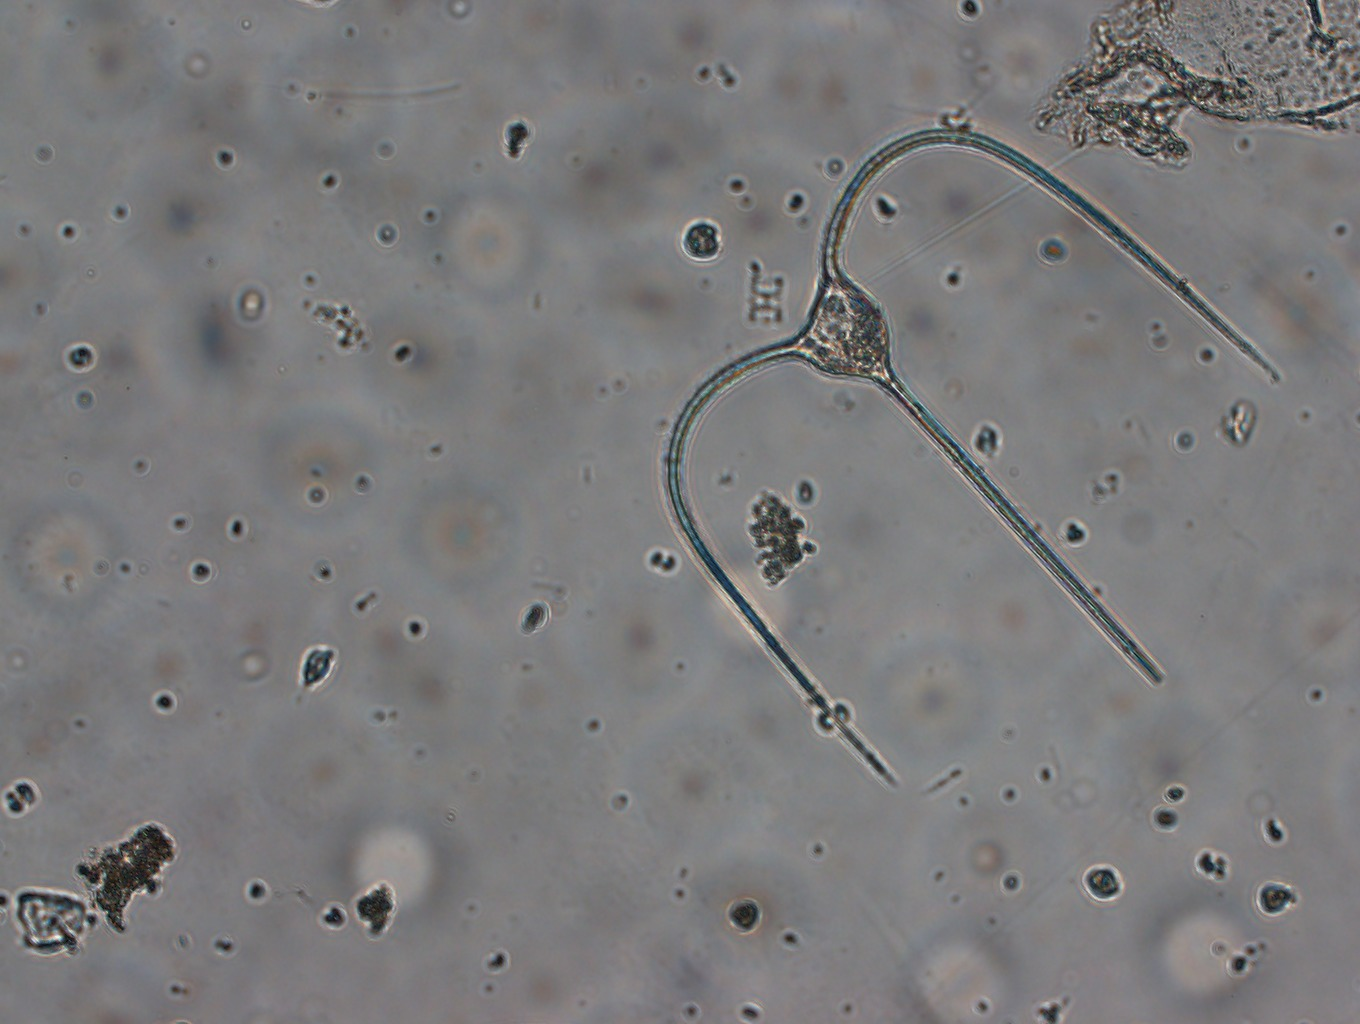ceratium trichoceros: (649, 119, 1287, 792)
